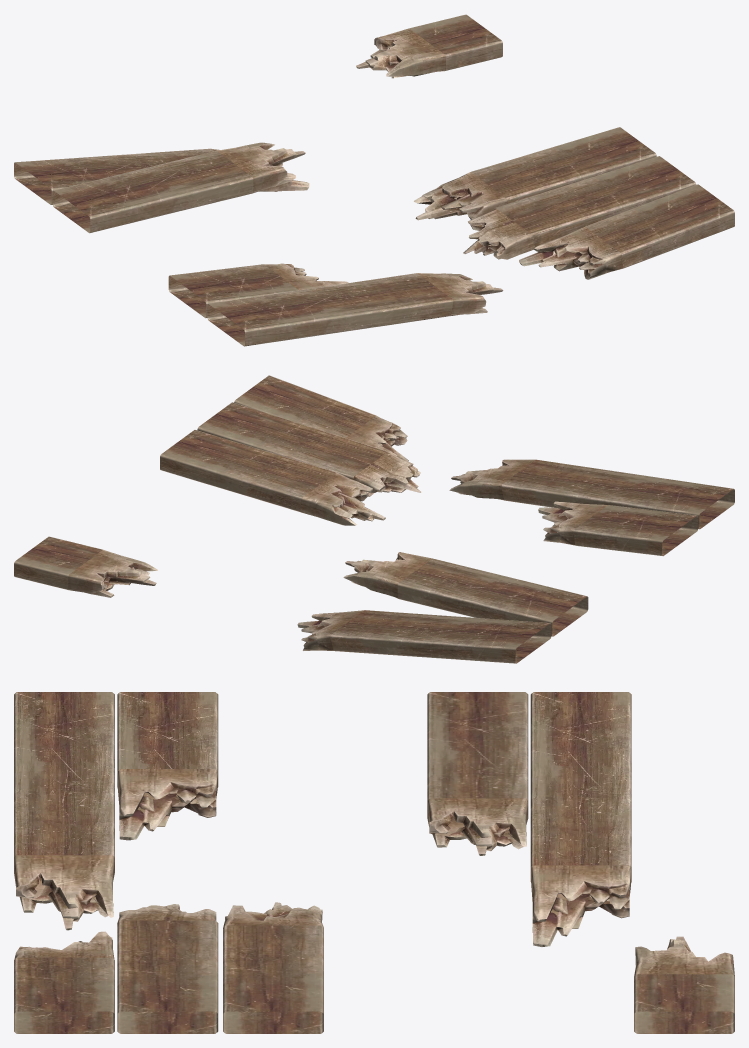
The picture shows the model from 3 angles, top to bottom: view 1: azimuth 30°, elevation 25°; view 2: azimuth 150°, elevation 25°; view 3: azimuth 270°, elevation 25°; orthographic projection. The views are drawn at different scales.
Parts seen in each view (by area): view 1: SM_BrokenWood_06_LOD0; view 2: SM_BrokenWood_06_LOD0; view 3: SM_BrokenWood_06_LOD0.
Boxes of the visible parts, bbox=[...] form: SM_BrokenWood_06_LOD0: bbox=[14, 14, 734, 346]; SM_BrokenWood_06_LOD0: bbox=[14, 375, 734, 663]; SM_BrokenWood_06_LOD0: bbox=[14, 692, 734, 1033].
Bounding box in the file's own units: 4.14 × 0.5208 × 3.95.
Materials: 1 (1 with a texture image).
